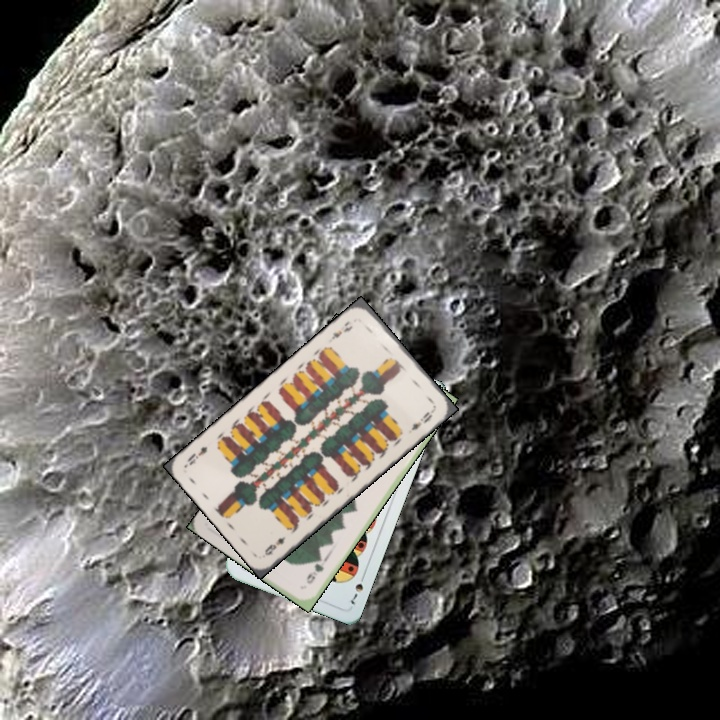E9: (261, 532, 288, 558), (327, 317, 355, 342)
G9: (302, 560, 326, 587)
S7: (346, 570, 368, 607)
